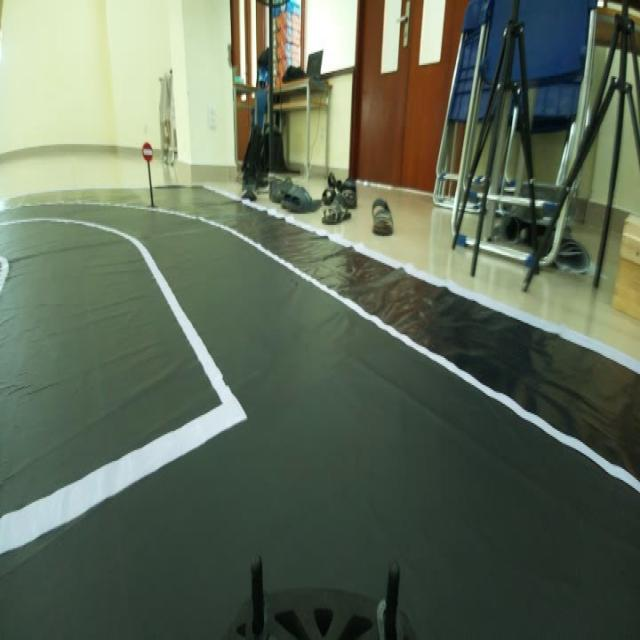no_entry: (140, 141, 154, 166)
